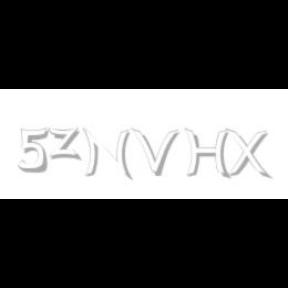5: (17, 128, 48, 174)
H: (184, 128, 230, 180)
N: (82, 128, 130, 180)
V: (131, 128, 179, 176)
X: (225, 128, 269, 180)
z: (47, 128, 83, 160)
